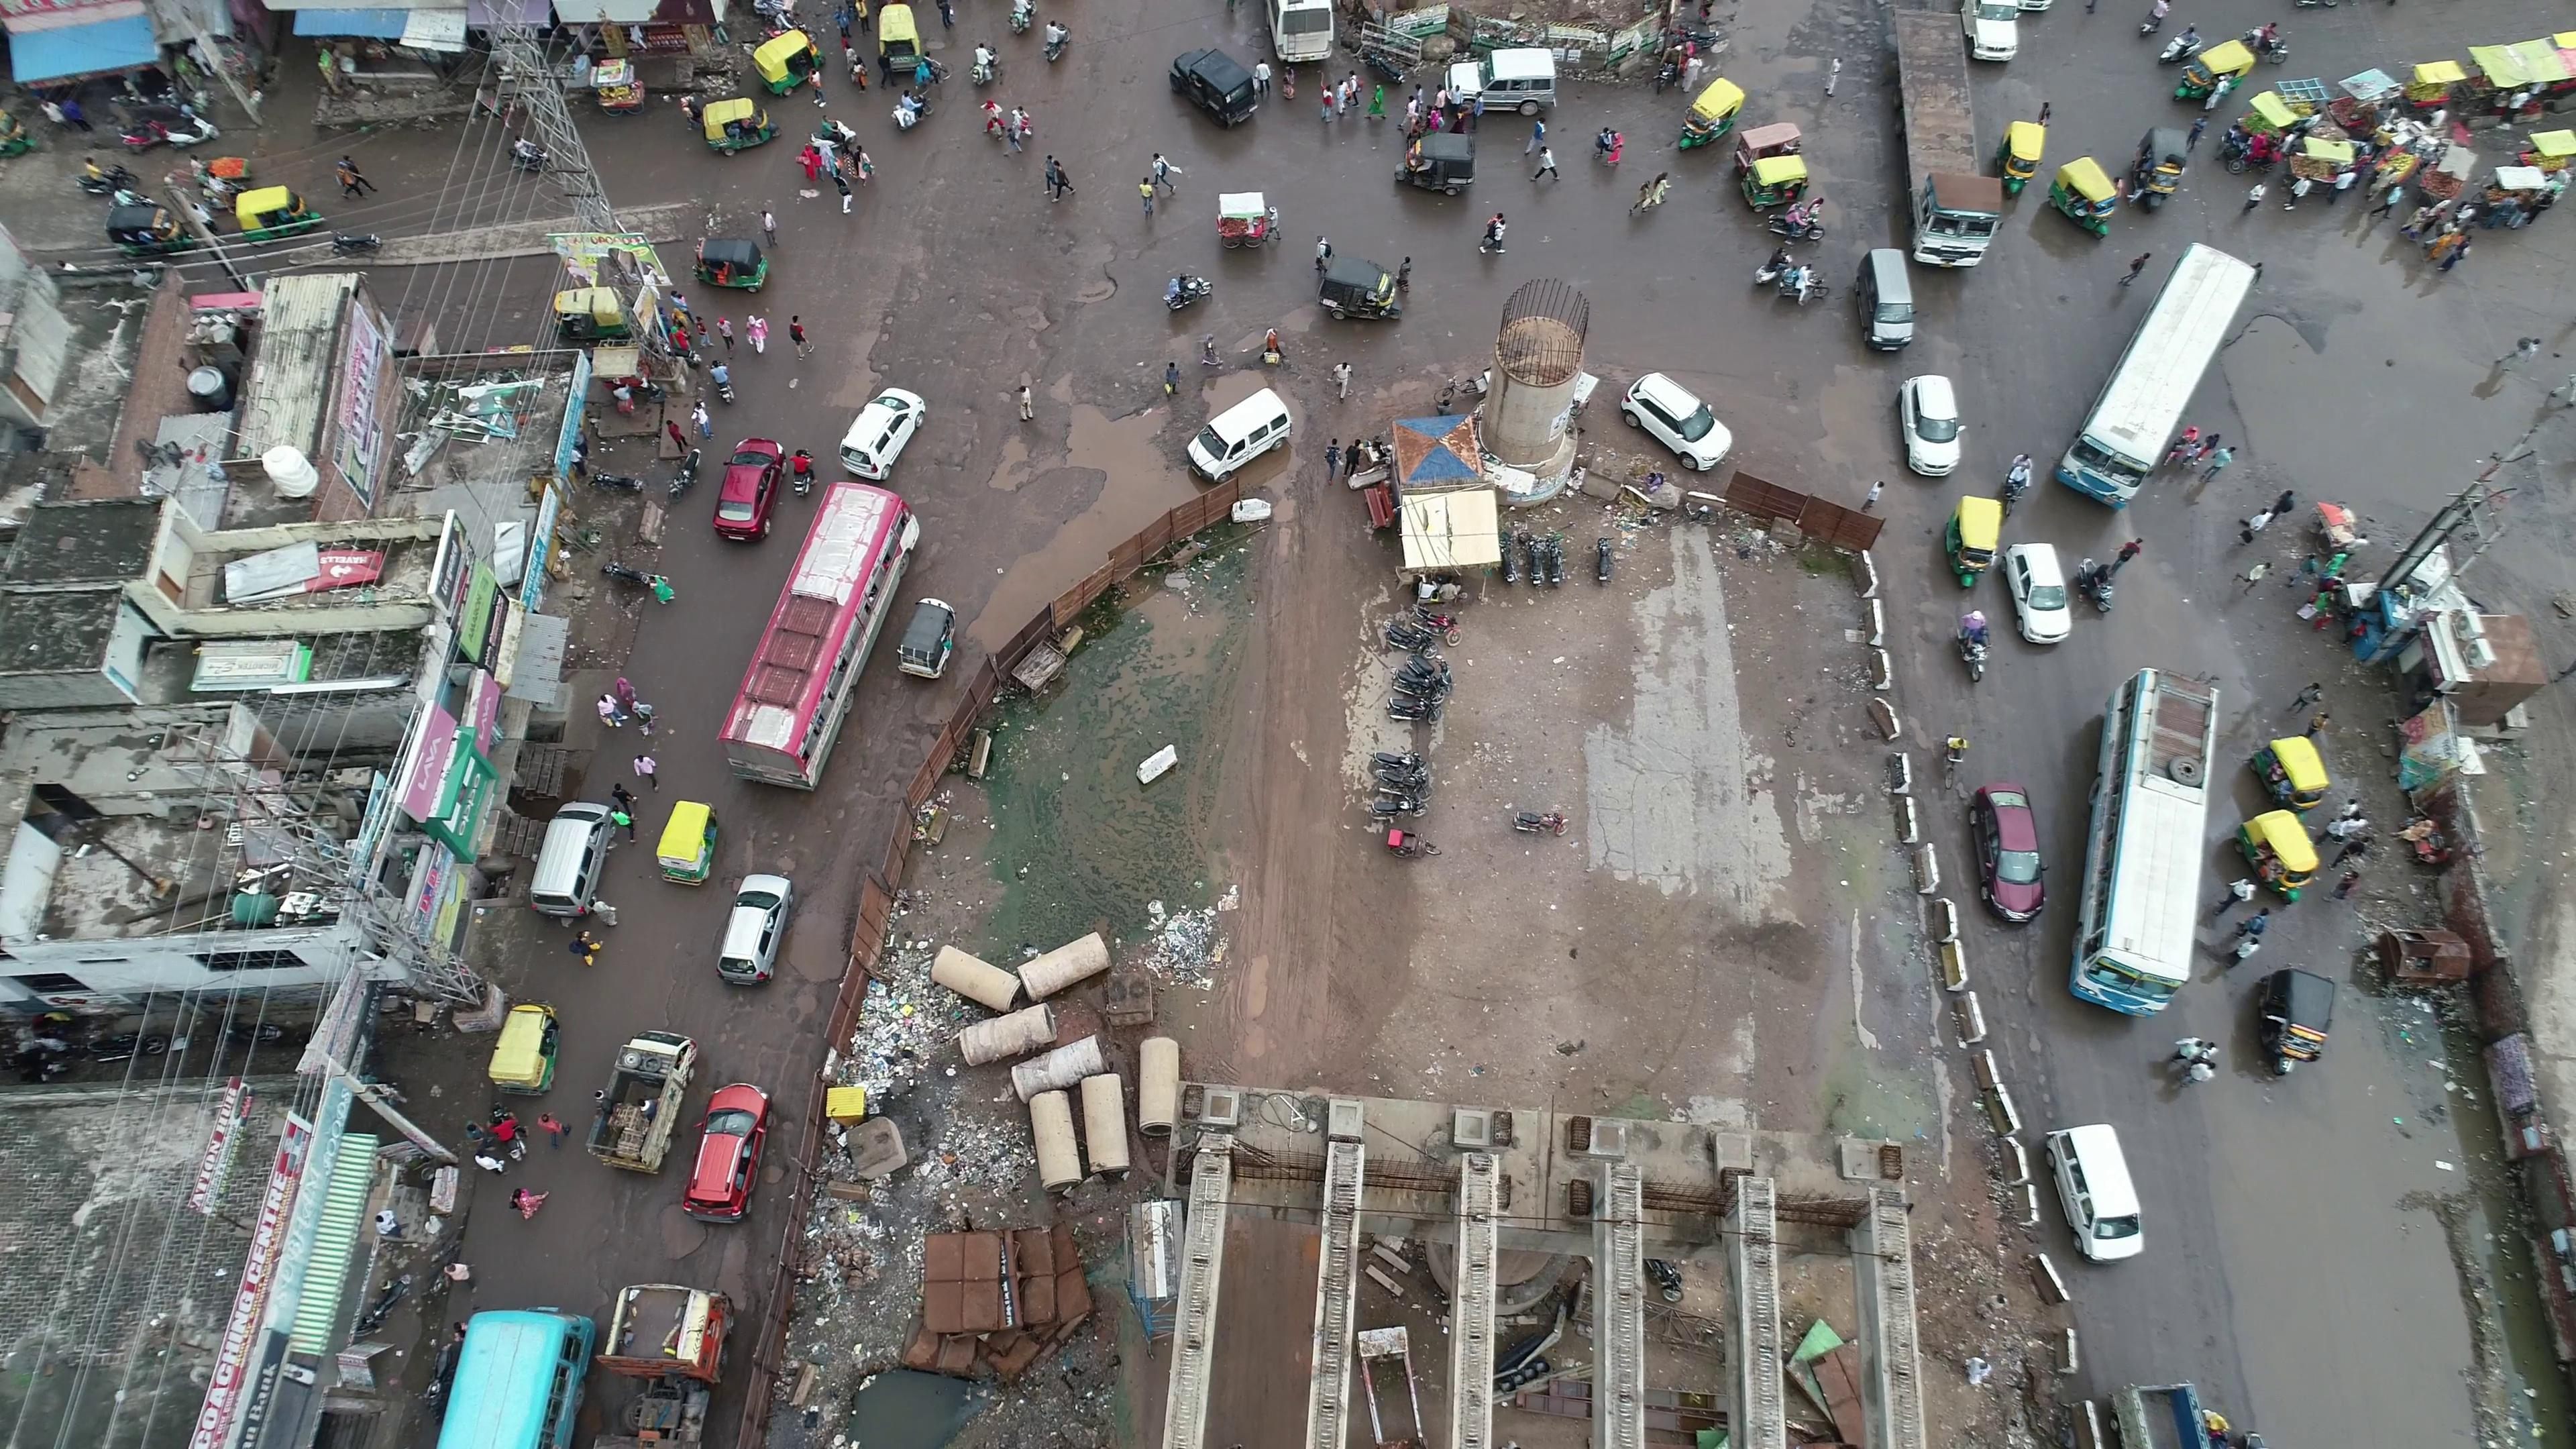Potholes: (1999, 980, 2068, 1109)
